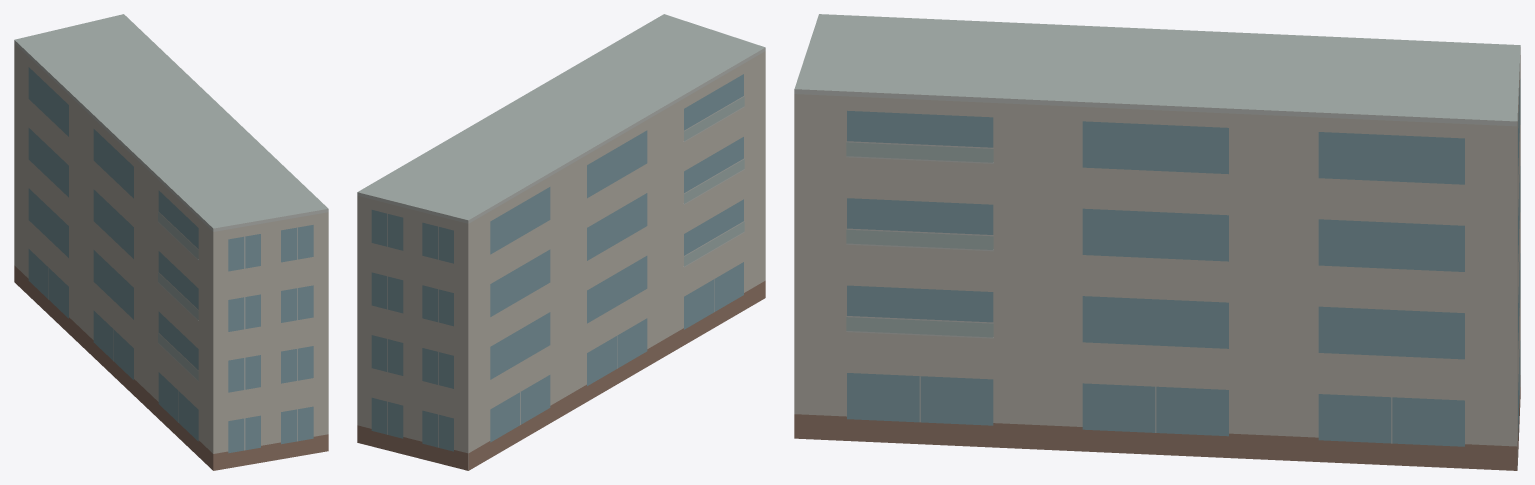
The model's file is survey-upis-32837643.glb.
3 views of the same model, side by side, from view 1: azimuth 30°, elevation 25°; view 2: azimuth 150°, elevation 25°; view 3: azimuth 270°, elevation 25° (orthographic). The views are drawn at different scales.
Visible parts, largest first — view 1: survey-upis-32837643.tmp; view 2: survey-upis-32837643.tmp; view 3: survey-upis-32837643.tmp.
Part boxes in pixels (x1,y1,x2,y2): survey-upis-32837643.tmp: (14,14,328,470); survey-upis-32837643.tmp: (357,14,765,470); survey-upis-32837643.tmp: (794,14,1520,470).
Size of the model in its own units: 11.43 by 17.32 by 32.63.
